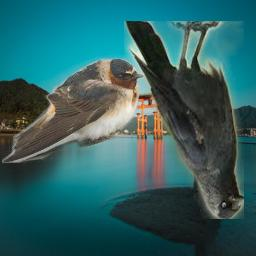Crow: (124, 21, 244, 219)
Swallow: (2, 58, 144, 163)
